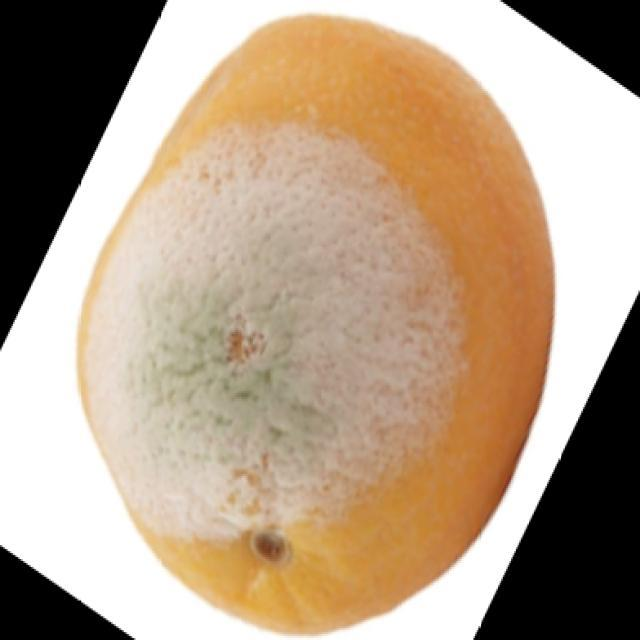sedikit-busuk: (78, 16, 553, 633), (86, 125, 468, 559)
